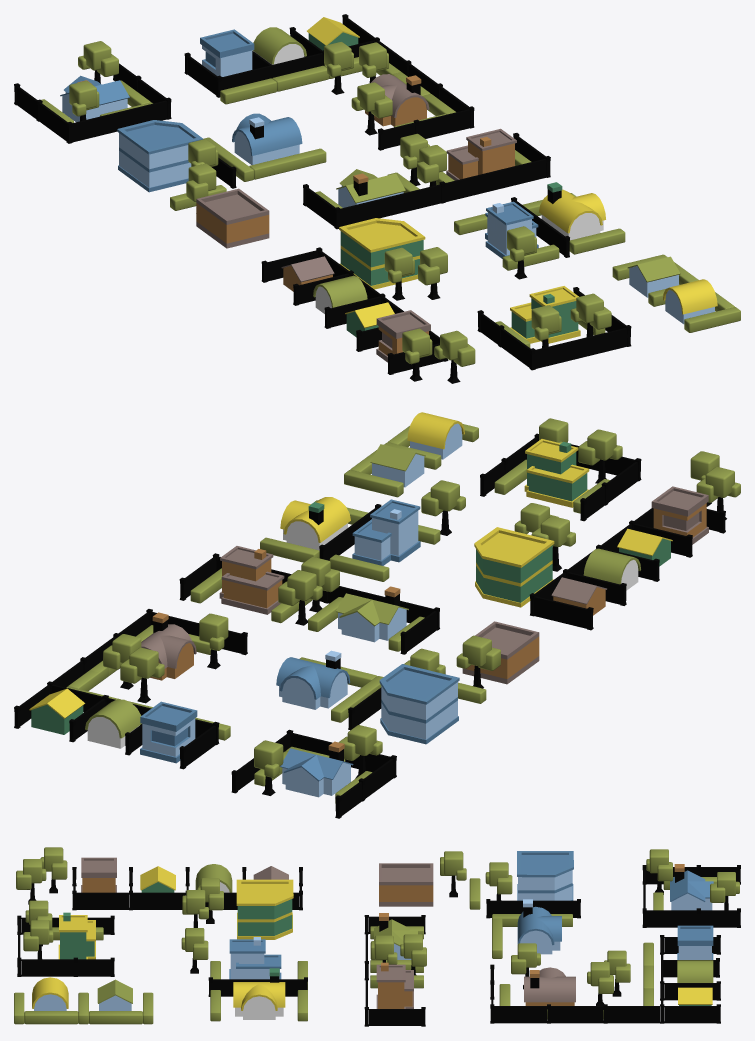
File: Dashboard_Map__Deployment.fbx
3 renders of one model, top to bottom at view 1: azimuth 30°, elevation 25°; view 2: azimuth 150°, elevation 25°; view 3: azimuth 270°, elevation 25°, orthographic. The views are drawn at different scales.
Visible parts, largest first — view 1: Map-Shop-Lv2-B.001, Map-Shop-Lv2-Y.001, Map-Shop-Lv1.001, Map-House-R-Lv2.002, Map-House-R-Lv2.004, Map-House-S-Lv2-R.001, Map-House-S-Lv2-Y.001, Fence.010, Map-House-S-Lv1-B.001, Map-House-R-Lv2-R.001, Map-House-T-Lv2-G.001, Map-House-R-Lv1-Y.001 (+50 smaller); view 2: Map-Shop-Lv2-B.001, Map-Shop-Lv2-Y.001, Map-House-S-Lv2-Y.001, Map-House-S-Lv2-R.001, Map-House-S-Lv2-B.001, Map-House-R-Lv2.002, Map-House-T-Lv2-B.001, Map-House-T-Lv2-G.001, Map-House-R-Lv2.004, Map-House-S-Lv1-B.001, Map-Shop-Lv1.001, Map-House-S-Lv1-R.001 (+35 smaller); view 3: Map-Shop-Lv2-Y.001, Map-Shop-Lv2-B.001, Map-Shop-Lv1.001, Map-House-R-Lv2.004, Map-House-S-Lv2-B.001, Map-House-R-Lv2.002, Map-House-R-Lv2-R.001, Map-House-S-Lv2-R.001, Map-House-S-Lv2-Y.001, Map-House-T-Lv2-B.001, Map-House-S-Lv1-R.001, Map-House-S-Lv1-B.001 (+55 smaller).
Part boxes in pixels (x1,y1,x2,y2): Map-Shop-Lv2-B.001: (117, 120, 202, 192); Map-Shop-Lv2-Y.001: (339, 218, 425, 289); Map-Shop-Lv1.001: (196, 188, 269, 248); Map-House-R-Lv2.002: (232, 113, 302, 164); Map-House-R-Lv2.004: (539, 182, 605, 240); Map-House-S-Lv2-R.001: (446, 128, 516, 180); Map-House-S-Lv2-Y.001: (510, 286, 580, 343); Fence.010: (66, 97, 171, 143); Map-House-S-Lv1-B.001: (200, 29, 254, 76); Map-House-R-Lv2-R.001: (365, 74, 429, 126); Map-House-T-Lv2-G.001: (336, 169, 405, 207); Map-House-R-Lv1-Y.001: (663, 279, 717, 324); Map-Shop-Lv2-B.001: (379, 664, 459, 744); Map-Shop-Lv2-Y.001: (474, 527, 554, 607); Map-House-S-Lv2-Y.001: (524, 439, 589, 507); Map-House-S-Lv2-R.001: (219, 546, 284, 614); Map-House-S-Lv2-B.001: (352, 499, 420, 565); Map-House-R-Lv2.002: (276, 650, 350, 709); Map-House-T-Lv2-B.001: (280, 741, 353, 797); Map-House-T-Lv2-G.001: (335, 586, 408, 642); Map-House-R-Lv2.004: (280, 497, 350, 550); Map-House-S-Lv1-B.001: (140, 701, 197, 763); Map-Shop-Lv1.001: (462, 621, 539, 684); Map-House-S-Lv1-R.001: (651, 486, 708, 544); Map-Shop-Lv2-Y.001: (236, 879, 293, 939); Map-Shop-Lv2-B.001: (517, 851, 573, 900); Map-Shop-Lv1.001: (379, 863, 433, 906); Map-House-R-Lv2.004: (233, 968, 285, 1019); Map-House-S-Lv2-B.001: (229, 937, 281, 979); Map-House-R-Lv2.002: (517, 899, 561, 954); Map-House-R-Lv2-R.001: (524, 967, 575, 1005); Map-House-S-Lv2-R.001: (376, 962, 413, 1008); Map-House-S-Lv2-Y.001: (58, 912, 95, 959); Map-House-T-Lv2-B.001: (670, 864, 713, 910); Map-House-S-Lv1-R.001: (81, 857, 116, 892); Map-House-S-Lv1-B.001: (677, 925, 713, 959).
Bounding box in the file's own units: 10.47 × 1.38 × 22.39.
